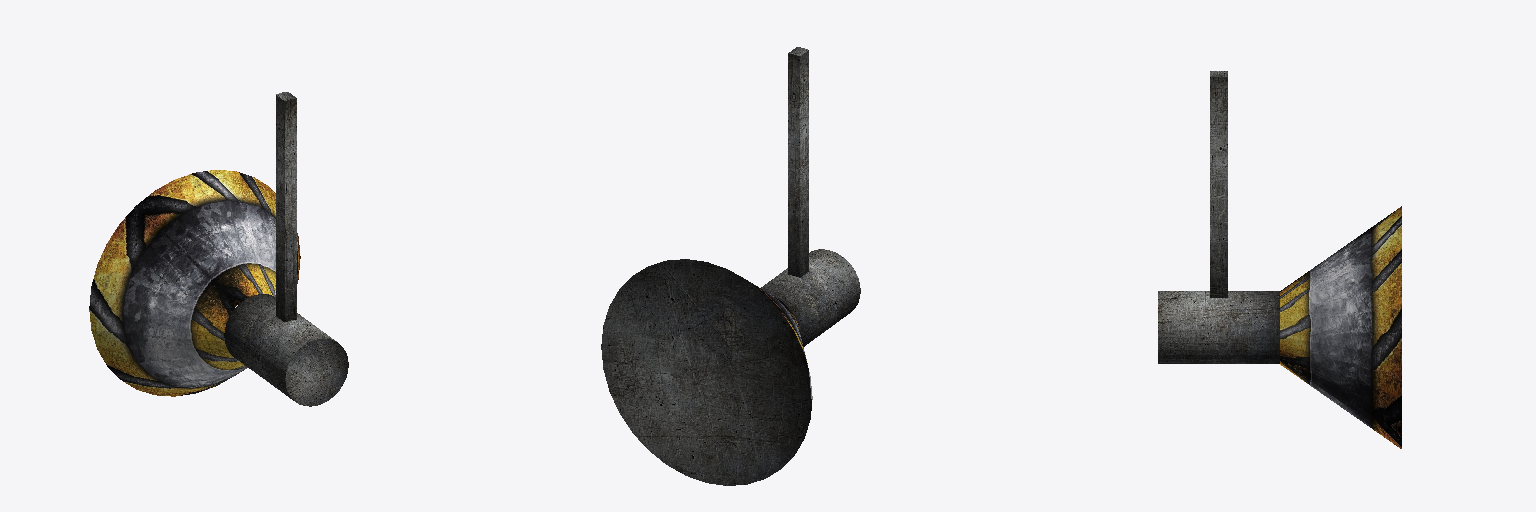
3 renders of one model, left to right at view 1: azimuth 30°, elevation 25°; view 2: azimuth 150°, elevation 25°; view 3: azimuth 270°, elevation 25°, orthographic.
Parts seen in each view (by area): view 1: Cylinder; view 2: Cylinder; view 3: Cylinder.
Part boxes in pixels (x1,y1,x2,y2): Cylinder: (89, 92, 348, 406); Cylinder: (601, 47, 860, 485); Cylinder: (1158, 71, 1401, 448).
Size of the model in its own units: 2 by 3.3 by 2.
1 materials, 1 textured.